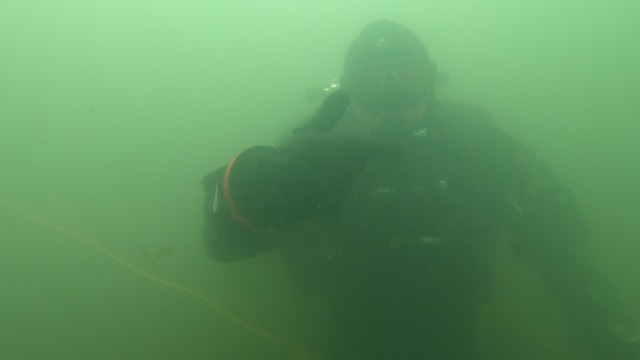Hand: (216, 94, 416, 252)
Head: (318, 18, 449, 153)
